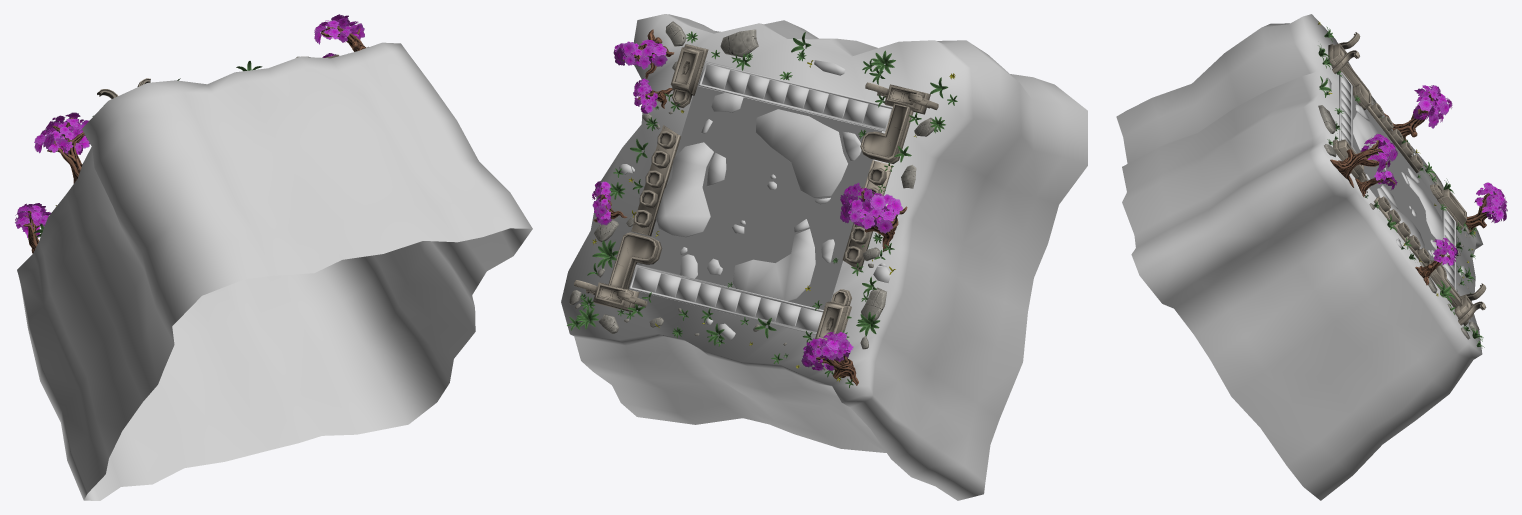
The model's file is Map.fbx.
3 renders of one model, left to right at view 1: azimuth 30°, elevation 25°; view 2: azimuth 150°, elevation 25°; view 3: azimuth 270°, elevation 25°, orthographic. The views are drawn at different scales.
Parts seen in each view (by area): view 1: terrain, tree_leafs_3, tree_leafs_1, tree_1__3_; view 2: terrain, Plane, terrain_rocks, structures, structures_lp_6_1, structures_lp_2_1, structures_lp_3_1, tree_leafs_1, tree_leafs__1__1, tree_leafs_3, tree_leafs, rock_1 (+5 smaller); view 3: terrain, structures, Plane, terrain_rocks, structures_lp_6_1, tree_1__1_, tree_leafs_1, tree_leafs_3, structures_lp_2_1, tree_leafs__1_, tree_leafs__1__1, structures_lp_3_1 (+2 smaller).
Boxes of the visible parts, bbox=[...] form: terrain: bbox=[17, 42, 532, 500]; tree_leafs_3: bbox=[43, 112, 89, 154]; tree_leafs_1: bbox=[314, 14, 364, 44]; tree_1__3_: bbox=[47, 117, 84, 183]; terrain: bbox=[561, 14, 1087, 500]; Plane: bbox=[642, 86, 881, 309]; terrain_rocks: bbox=[619, 60, 890, 340]; structures: bbox=[593, 125, 851, 340]; structures_lp_6_1: bbox=[698, 61, 892, 131]; structures_lp_2_1: bbox=[860, 103, 913, 163]; structures_lp_3_1: bbox=[670, 44, 708, 107]; tree_leafs_1: bbox=[613, 39, 667, 69]; tree_leafs__1__1: bbox=[840, 199, 895, 233]; tree_leafs_3: bbox=[840, 182, 903, 217]; tree_leafs: bbox=[801, 338, 853, 370]; rock_1: bbox=[720, 29, 758, 57]; terrain: bbox=[1116, 14, 1483, 500]; structures: bbox=[1373, 184, 1486, 325]; Plane: bbox=[1353, 95, 1442, 260]; terrain_rocks: bbox=[1325, 77, 1467, 276]; structures_lp_6_1: bbox=[1339, 72, 1352, 148]; tree_1__1_: bbox=[1330, 140, 1391, 187]; tree_leafs_1: bbox=[1360, 133, 1397, 172]; tree_leafs_3: bbox=[1413, 85, 1440, 119]; structures_lp_2_1: bbox=[1342, 62, 1371, 110]; tree_leafs__1_: bbox=[1474, 182, 1507, 222]; tree_leafs__1__1: bbox=[1415, 93, 1452, 128]; structures_lp_3_1: bbox=[1333, 139, 1367, 182].
Size of the model in its own units: 4827 by 5465 by 5239.
